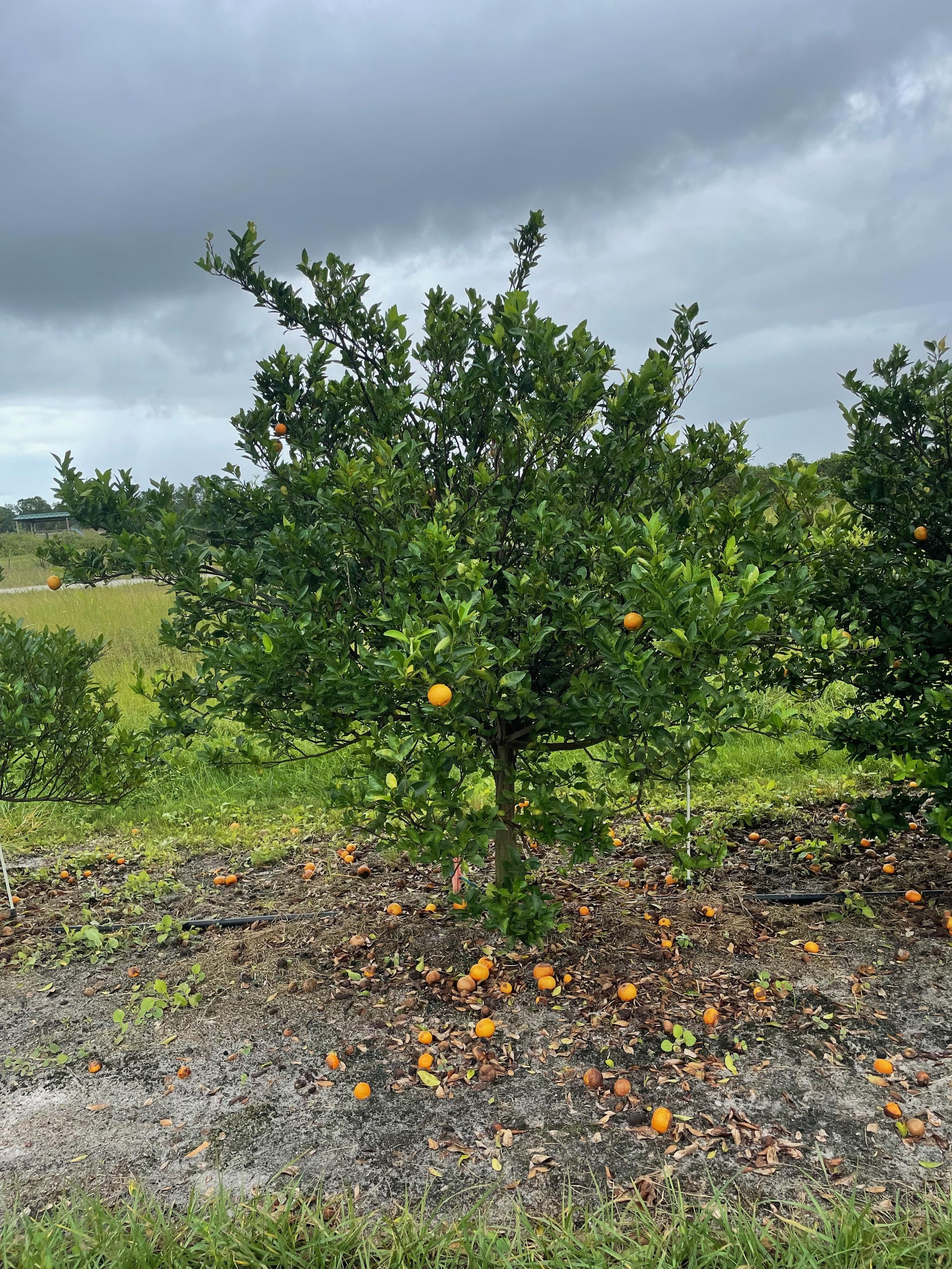fruit_on_ground: (425, 680, 455, 710), (620, 608, 647, 633), (911, 523, 931, 543), (45, 573, 63, 592), (266, 437, 284, 454), (272, 422, 289, 437)
fruit_on_tree: (649, 1106, 675, 1133), (471, 957, 494, 979), (582, 1068, 605, 1090), (473, 1017, 497, 1038), (616, 981, 639, 1002), (611, 1076, 633, 1097), (455, 974, 479, 993), (904, 1116, 925, 1136), (532, 961, 555, 978), (701, 1006, 721, 1025), (352, 1081, 372, 1100), (873, 1056, 894, 1074), (884, 1100, 903, 1119), (536, 974, 557, 991), (751, 984, 769, 1002), (324, 1051, 342, 1069), (478, 954, 496, 971), (471, 1041, 489, 1058), (86, 1057, 103, 1075), (425, 967, 443, 984), (417, 1052, 435, 1069), (631, 854, 649, 870), (416, 1028, 432, 1045), (904, 888, 922, 903), (803, 939, 820, 954), (386, 901, 403, 916), (941, 909, 952, 932), (348, 933, 366, 947), (499, 979, 514, 995), (355, 863, 372, 877), (660, 1018, 675, 1033), (362, 964, 378, 978), (702, 902, 717, 916), (603, 824, 617, 838), (210, 873, 225, 886), (127, 965, 141, 978), (560, 970, 573, 984), (224, 872, 238, 885), (882, 861, 896, 874), (452, 899, 467, 911), (576, 904, 591, 916), (302, 861, 317, 873), (664, 872, 677, 885), (346, 840, 359, 853), (229, 820, 243, 832), (808, 860, 822, 872), (659, 916, 673, 928), (643, 909, 656, 921), (618, 876, 631, 888), (287, 824, 301, 835), (424, 901, 438, 912), (859, 837, 873, 848), (612, 835, 624, 847), (758, 837, 771, 848), (748, 830, 761, 841), (660, 937, 673, 948), (309, 846, 321, 856), (908, 821, 920, 831), (344, 854, 356, 864), (339, 849, 351, 859), (804, 851, 815, 861), (130, 826, 141, 836), (59, 869, 69, 879), (106, 851, 117, 860), (82, 868, 93, 877), (116, 856, 126, 865)
